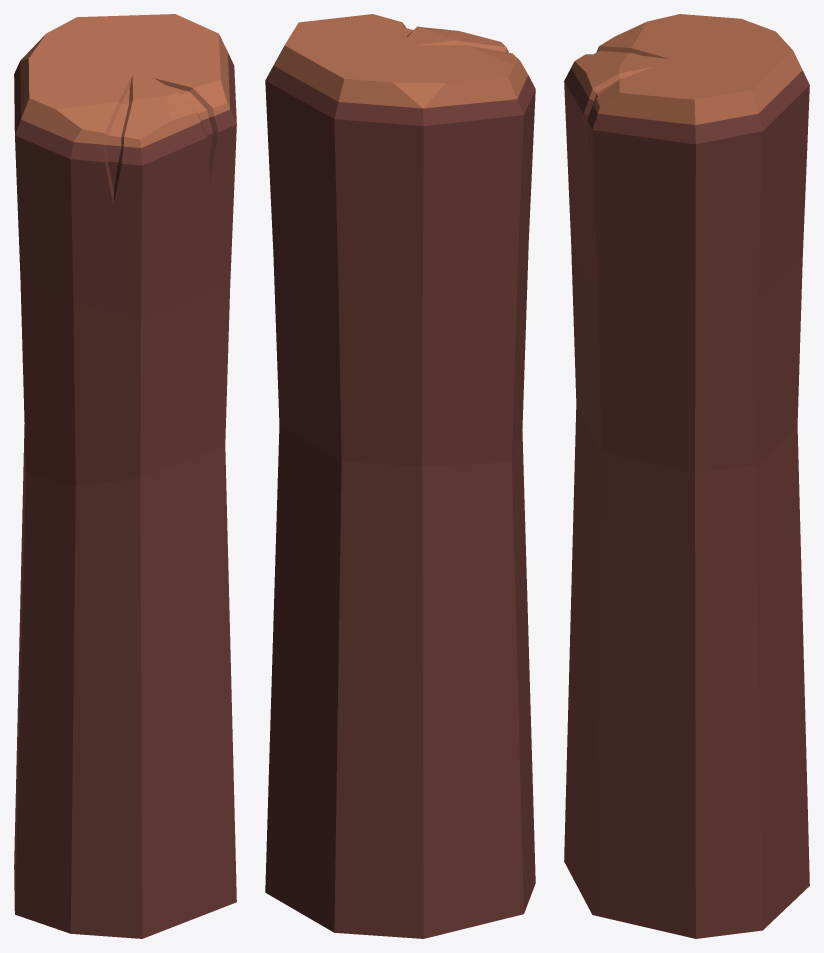
File: Wooden Pole Blunt 01.fbx
The picture shows the model from 3 angles, left to right: view 1: azimuth 30°, elevation 25°; view 2: azimuth 150°, elevation 25°; view 3: azimuth 270°, elevation 25°; orthographic projection. The views are drawn at different scales.
Parts seen in each view (by area): view 1: Wooden Pole Blunt 01; view 2: Wooden Pole Blunt 01; view 3: Wooden Pole Blunt 01.
Part boxes in pixels (x1,y1,x2,y2): Wooden Pole Blunt 01: (14,14,236,938); Wooden Pole Blunt 01: (265,14,535,938); Wooden Pole Blunt 01: (564,14,809,938).
Bounding box in the file's own units: 30.64 × 106 × 28.35.
